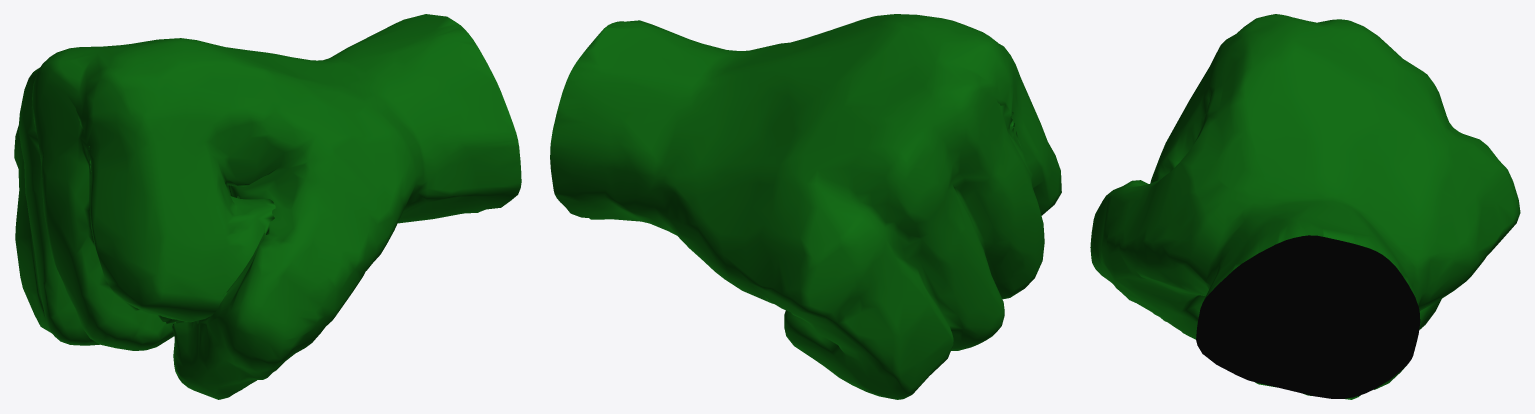
File: hulk_el.fbx
The picture shows the model from 3 angles, left to right: view 1: azimuth 30°, elevation 25°; view 2: azimuth 150°, elevation 25°; view 3: azimuth 270°, elevation 25°; orthographic projection. The views are drawn at different scales.
Visible parts, largest first — view 1: yumruk3; view 2: yumruk3; view 3: yumruk3.
Part boxes in pixels (left/top/right/bottom): yumruk3: left=14, top=14, right=521, bottom=399; yumruk3: left=550, top=14, right=1061, bottom=399; yumruk3: left=1090, top=14, right=1520, bottom=399.
Bounding box in the file's own units: 11.88 × 8.87 × 11.45.
